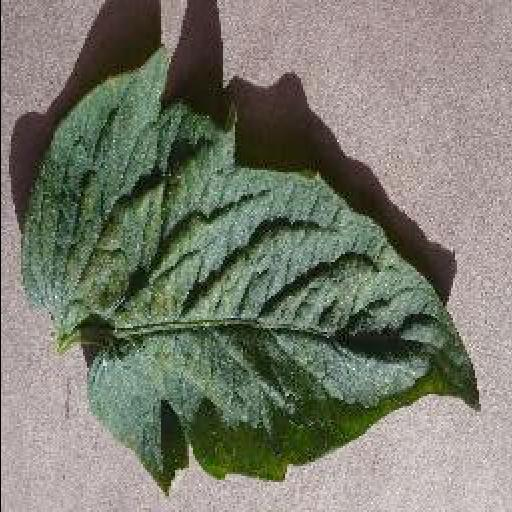disease_tomato: (18, 46, 484, 488)
